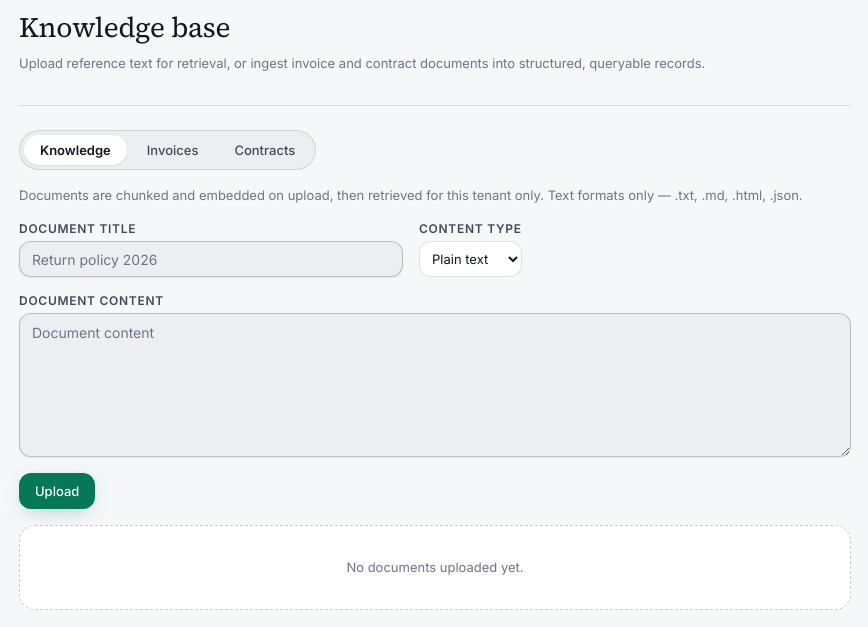
it: KnowledgePage tabs › switching to Invoices mounts the structured manager and reads the invoice list
This screenshot has width=868, height=627.
Click the tab "Invoices".
click(173, 150)  # box [131,135,214,166]
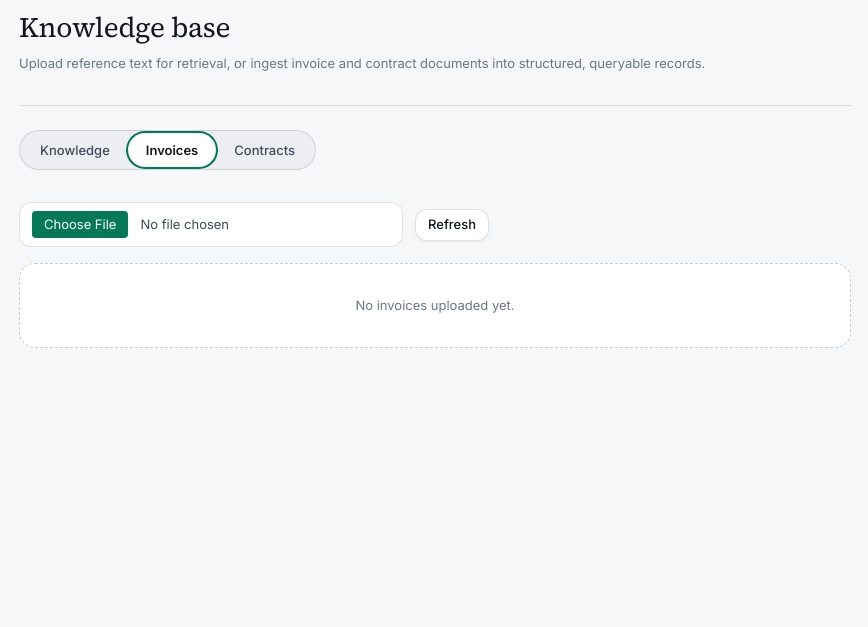
Expected: the file field named "Upload a invoice" is shown, [19,202,403,247]
